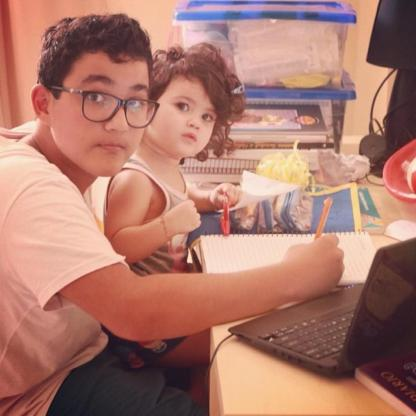board: (243, 247, 384, 387)
